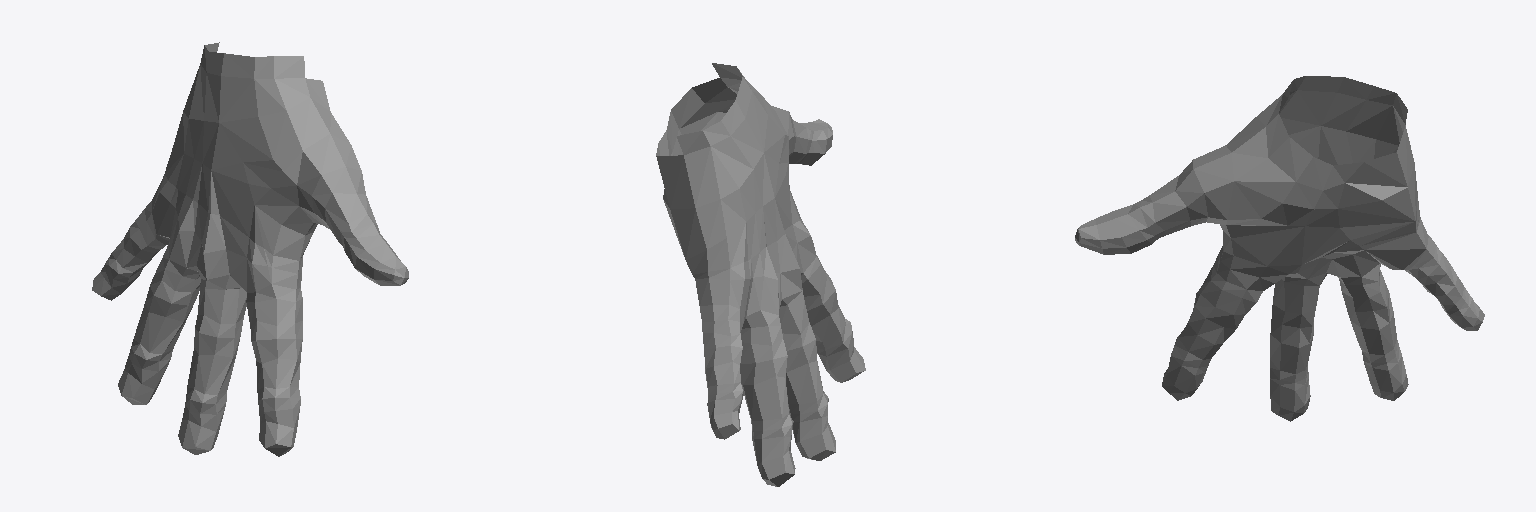
File: lefthand.obj
The picture shows the model from 3 angles: view 1: azimuth 30°, elevation 25°; view 2: azimuth 150°, elevation 25°; view 3: azimuth 270°, elevation 25°; orthographic projection.
Parts seen in each view (by area): view 1: Patrick.001_Patrick.004; view 2: Patrick.001_Patrick.004; view 3: Patrick.001_Patrick.004.
Boxes of the visible parts, <box> form: Patrick.001_Patrick.004: <box>92,42,408,456</box>; Patrick.001_Patrick.004: <box>656,63,865,486</box>; Patrick.001_Patrick.004: <box>1075,76,1484,421</box>.
Bounding box in the file's own units: 0.0961 × 0.2146 × 0.2115.